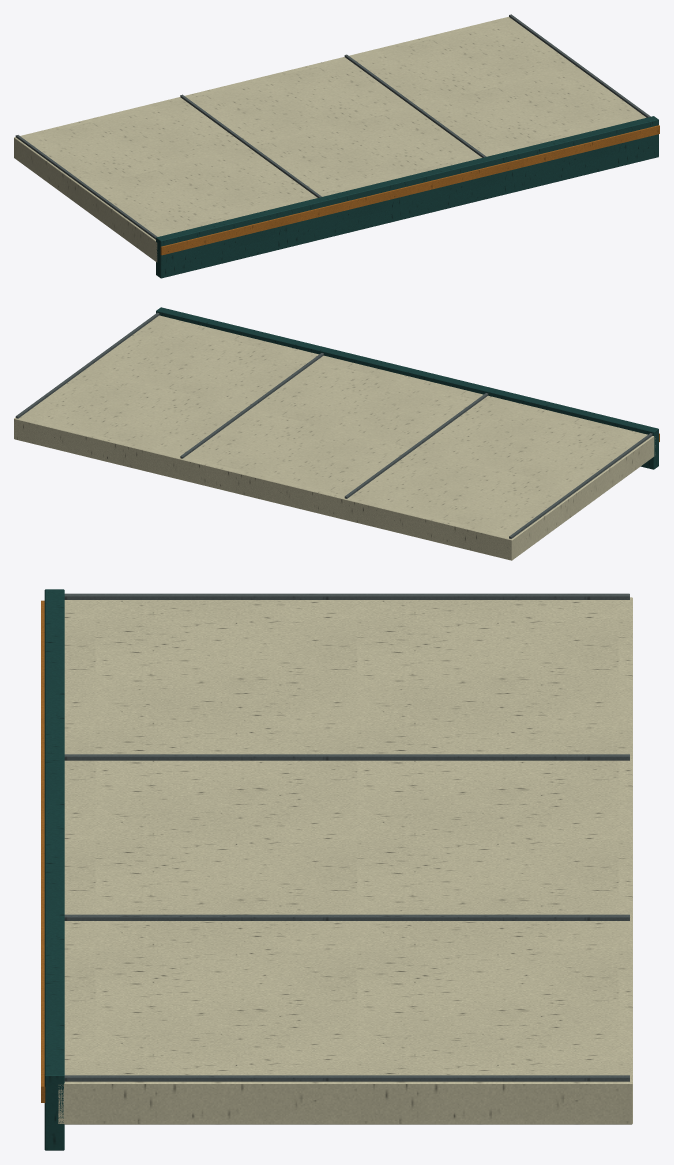
File: gallery_canopy_4m.glb
3 renders of one model, top to bottom at view 1: azimuth 30°, elevation 25°; view 2: azimuth 150°, elevation 25°; view 3: azimuth 270°, elevation 25°, orthographic. The views are drawn at different scales.
Visible parts, largest first — view 1: gallery_canopy_4m; view 2: gallery_canopy_4m; view 3: gallery_canopy_4m.
Part boxes in pixels (<box>): gallery_canopy_4m: <box>14,14,659,278</box>; gallery_canopy_4m: <box>14,307,659,560</box>; gallery_canopy_4m: <box>41,589,632,1150</box>.
Bounding box in the file's own units: 4 × 0.29 × 2.06.
Materials: 4 (4 with a texture image).
